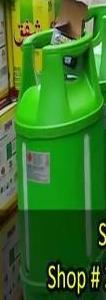cylinder: (1, 1, 106, 300)
